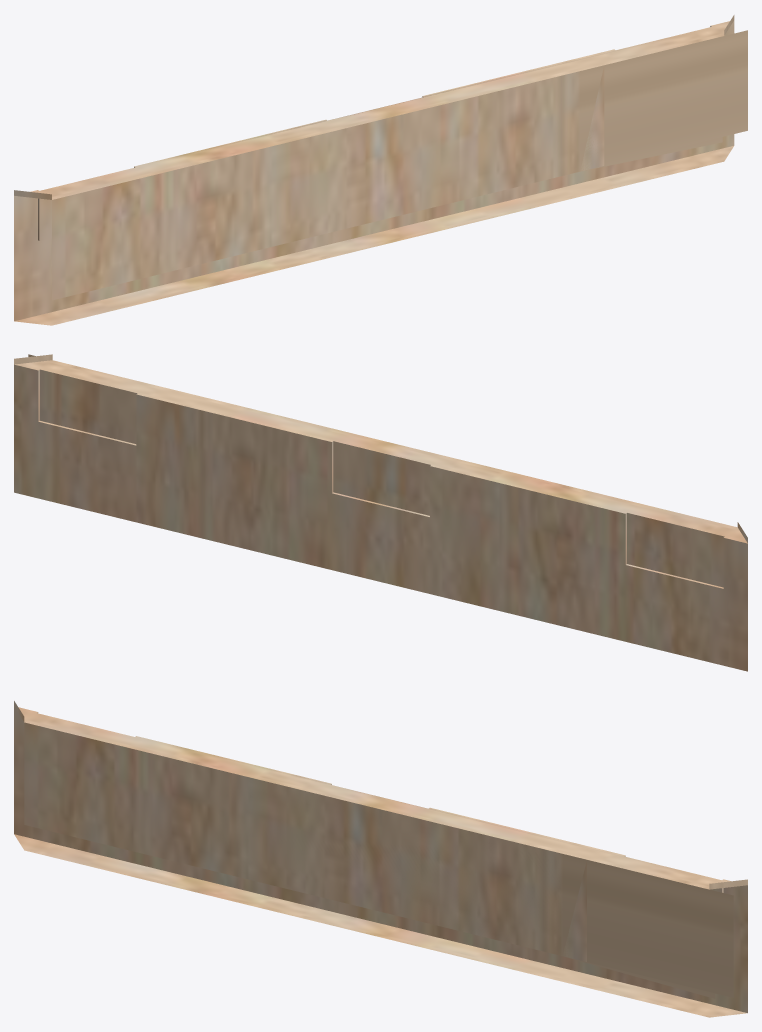
The model's file is basin-plus-y.obj.
The picture shows the model from 3 angles, top to bottom: view 1: azimuth 30°, elevation 25°; view 2: azimuth 150°, elevation 25°; view 3: azimuth 330°, elevation 25°; orthographic projection.
Parts seen in each view (by area): view 1: #ID396.002; view 2: #ID396.002; view 3: #ID396.002.
Boxes of the visible parts, x1,y1,x2,y2 form: #ID396.002: [14, 15, 747, 325]; #ID396.002: [14, 354, 747, 671]; #ID396.002: [14, 701, 747, 1017].
Size of the model in its own units: 1.3 by 0.2264 by 0.0433.
